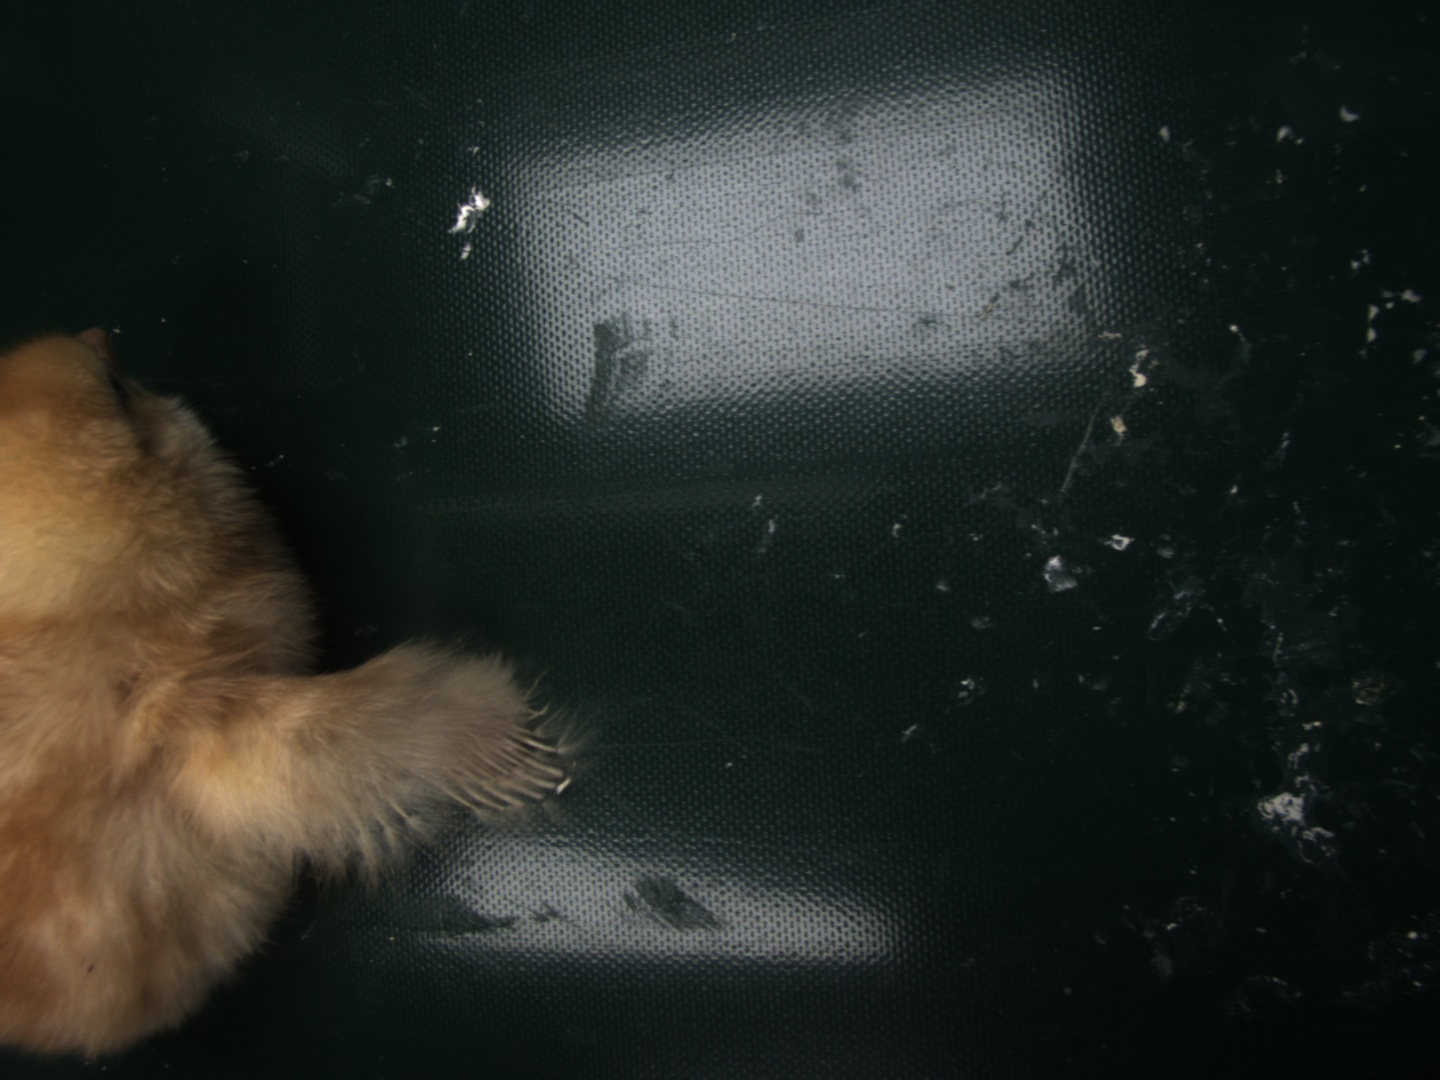female: (442, 733, 560, 813)
